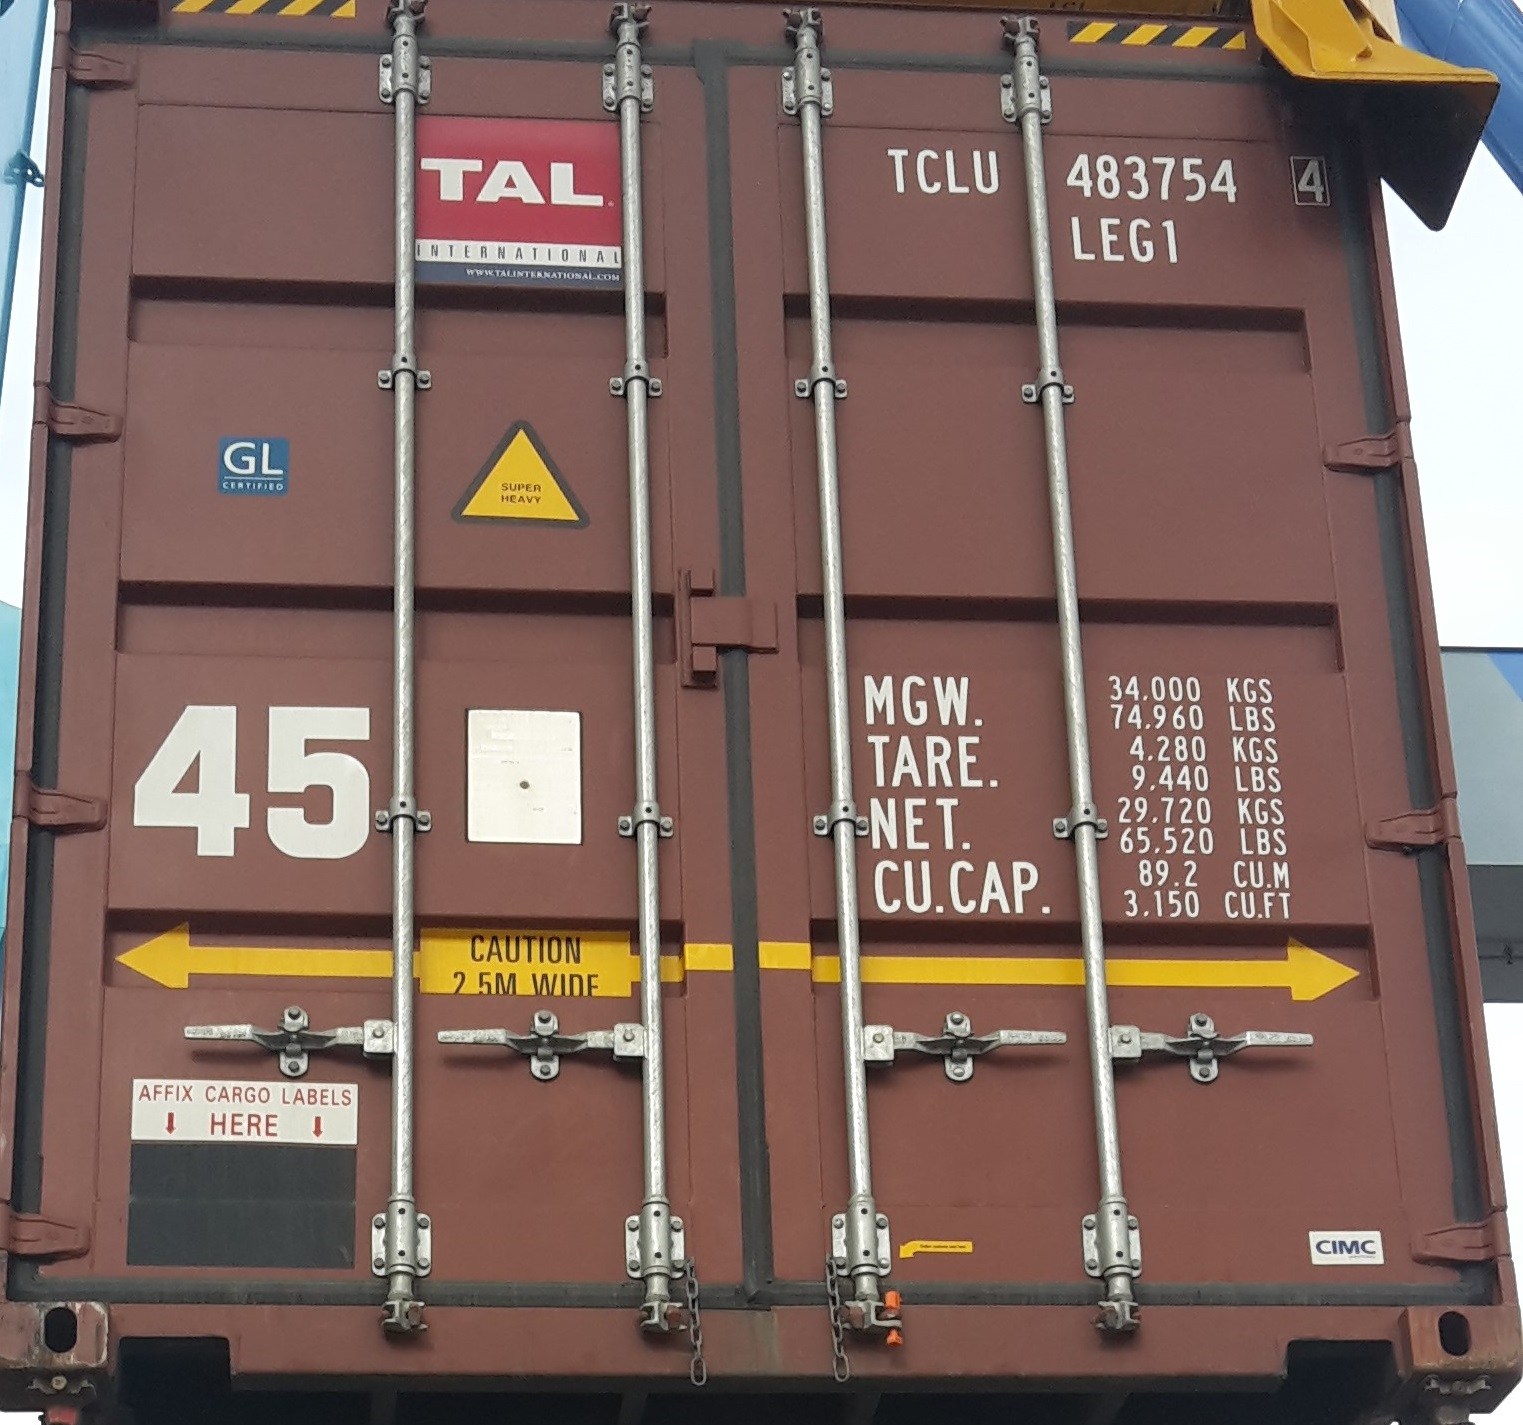container_door: (9, 1, 1465, 1374)
